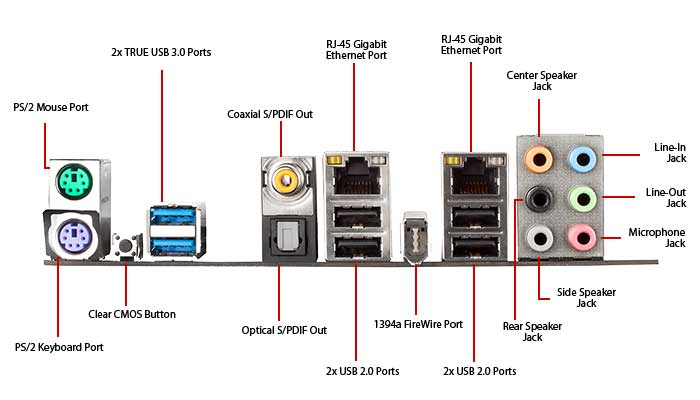Audio: (522, 184, 555, 215), (568, 181, 599, 213), (565, 223, 598, 253), (523, 144, 555, 174), (568, 144, 599, 174), (523, 225, 555, 253)
Ethernet: (324, 154, 390, 202), (444, 154, 505, 198)
USB: (329, 204, 385, 231), (327, 236, 387, 261), (445, 235, 505, 260), (447, 205, 503, 231)
